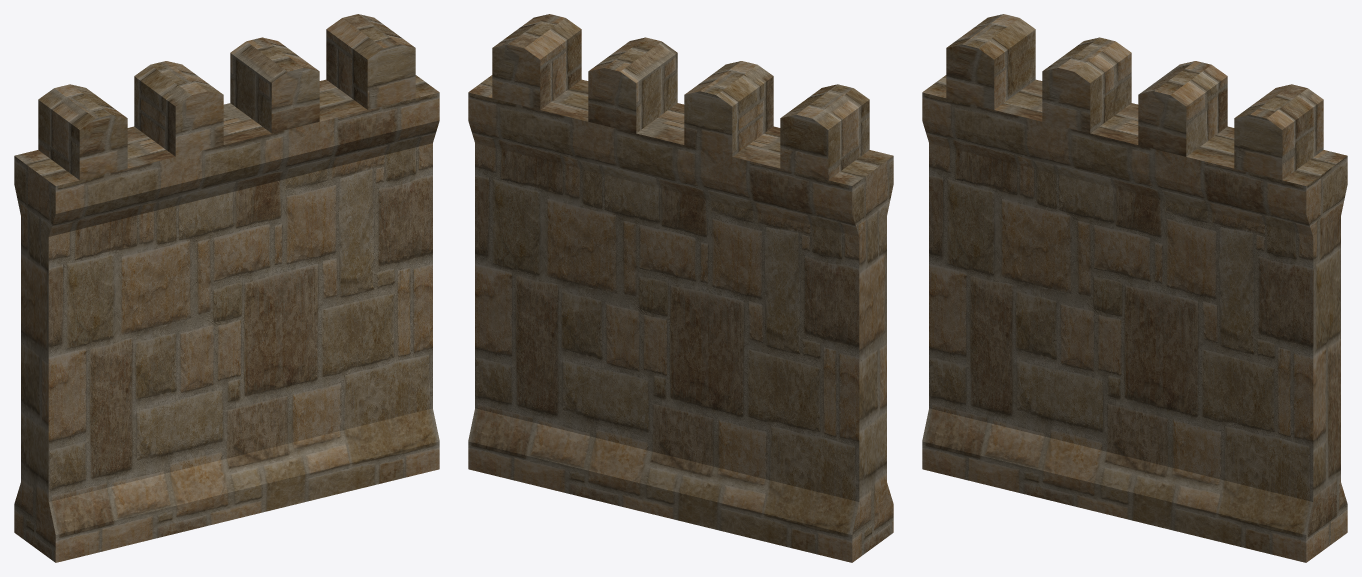
The model's file is LabWallBIG.obj.
The picture shows the model from 3 angles, left to right: view 1: azimuth 30°, elevation 25°; view 2: azimuth 150°, elevation 25°; view 3: azimuth 330°, elevation 25°; orthographic projection.
Parts seen in each view (by area): view 1: Plane.001; view 2: Plane.001; view 3: Plane.001.
Boxes of the visible parts, bbox=[...] form: Plane.001: bbox=[14, 14, 439, 562]; Plane.001: bbox=[468, 14, 893, 562]; Plane.001: bbox=[922, 14, 1347, 562].
Bounding box in the file's own units: 16 × 17.3 × 3.
Materials: 1 (1 with a texture image).
